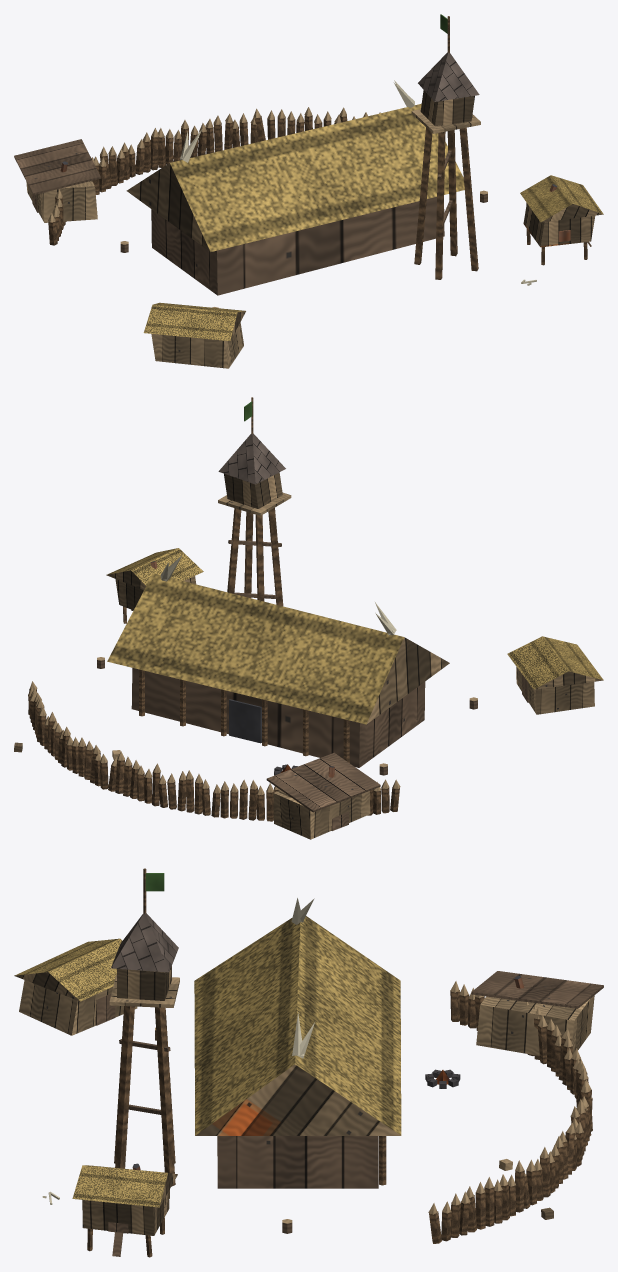
File: cm_goblin_noble_b.glb
3 views of the same model, one above another, from view 1: azimuth 30°, elevation 25°; view 2: azimuth 150°, elevation 25°; view 3: azimuth 270°, elevation 25° (orthographic). The views are drawn at different scales.
Parts seen in each view (by area): view 1: cm_goblin_noble_b; view 2: cm_goblin_noble_b; view 3: cm_goblin_noble_b.
Boxes of the visible parts, <box> form: cm_goblin_noble_b: <box>14,14,603,368</box>; cm_goblin_noble_b: <box>14,397,603,839</box>; cm_goblin_noble_b: <box>14,868,603,1257</box>.
Bounding box in the file's own units: 2.06 × 1.07 × 1.83.
1 material, 1 textured.
